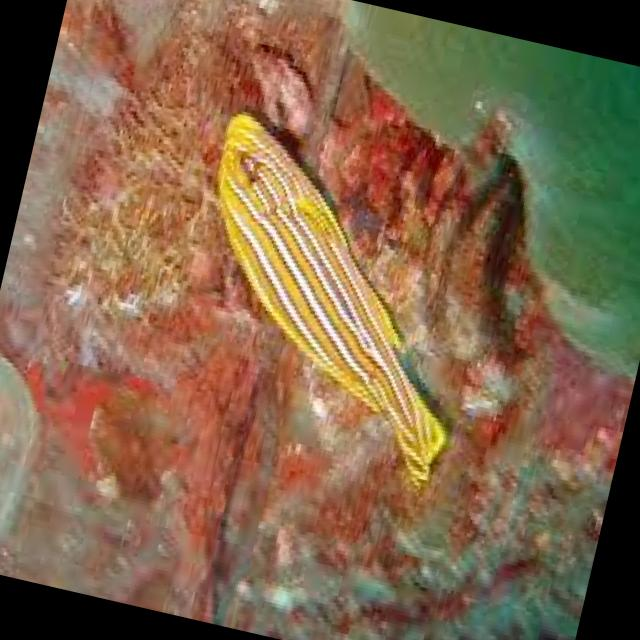RibbonedSweetlips: (155, 106, 510, 496)
